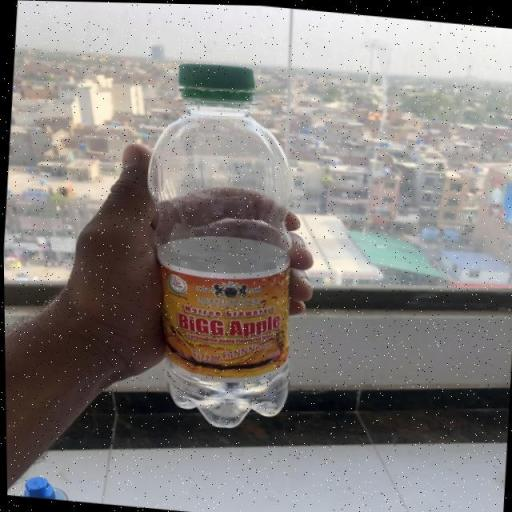plastic: (126, 55, 312, 432)
